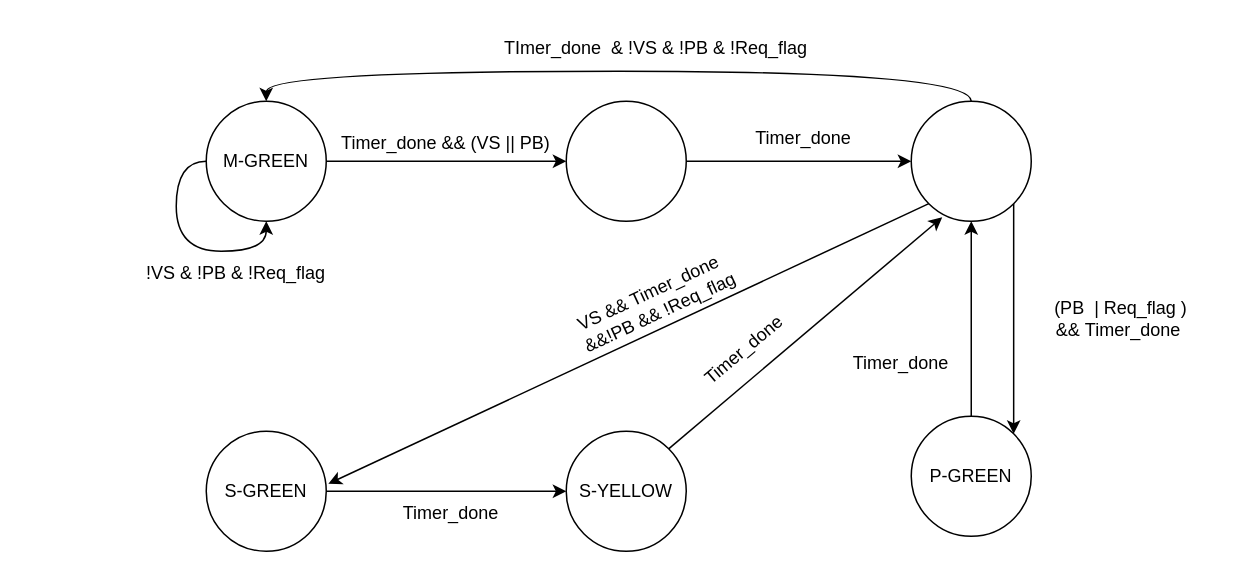
This 1251x578 diagram has some shape labels left out. The shapes that lost their labels are listed below. From the top down, each one's centre as x and y in pixels, then its label:
At (625,160): "M-YELLOW".
At (970,160): "ALL-RED".
